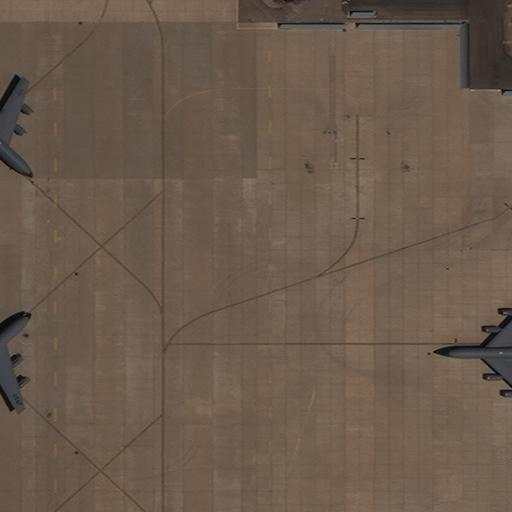Military Transport: (444, 309, 512, 395), (0, 82, 33, 177), (0, 311, 32, 407)
